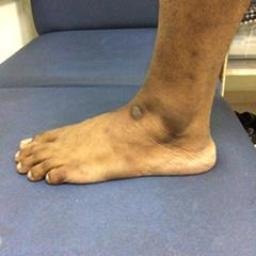Lateral View -Left Foot-: (8, 73, 232, 194)
